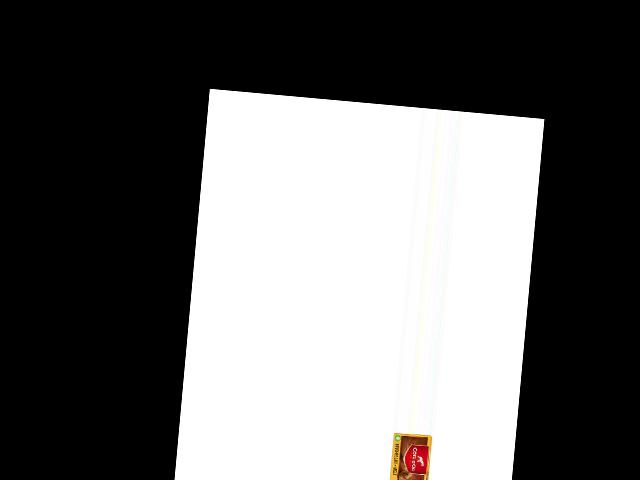chocolate: (380, 431, 434, 480)
